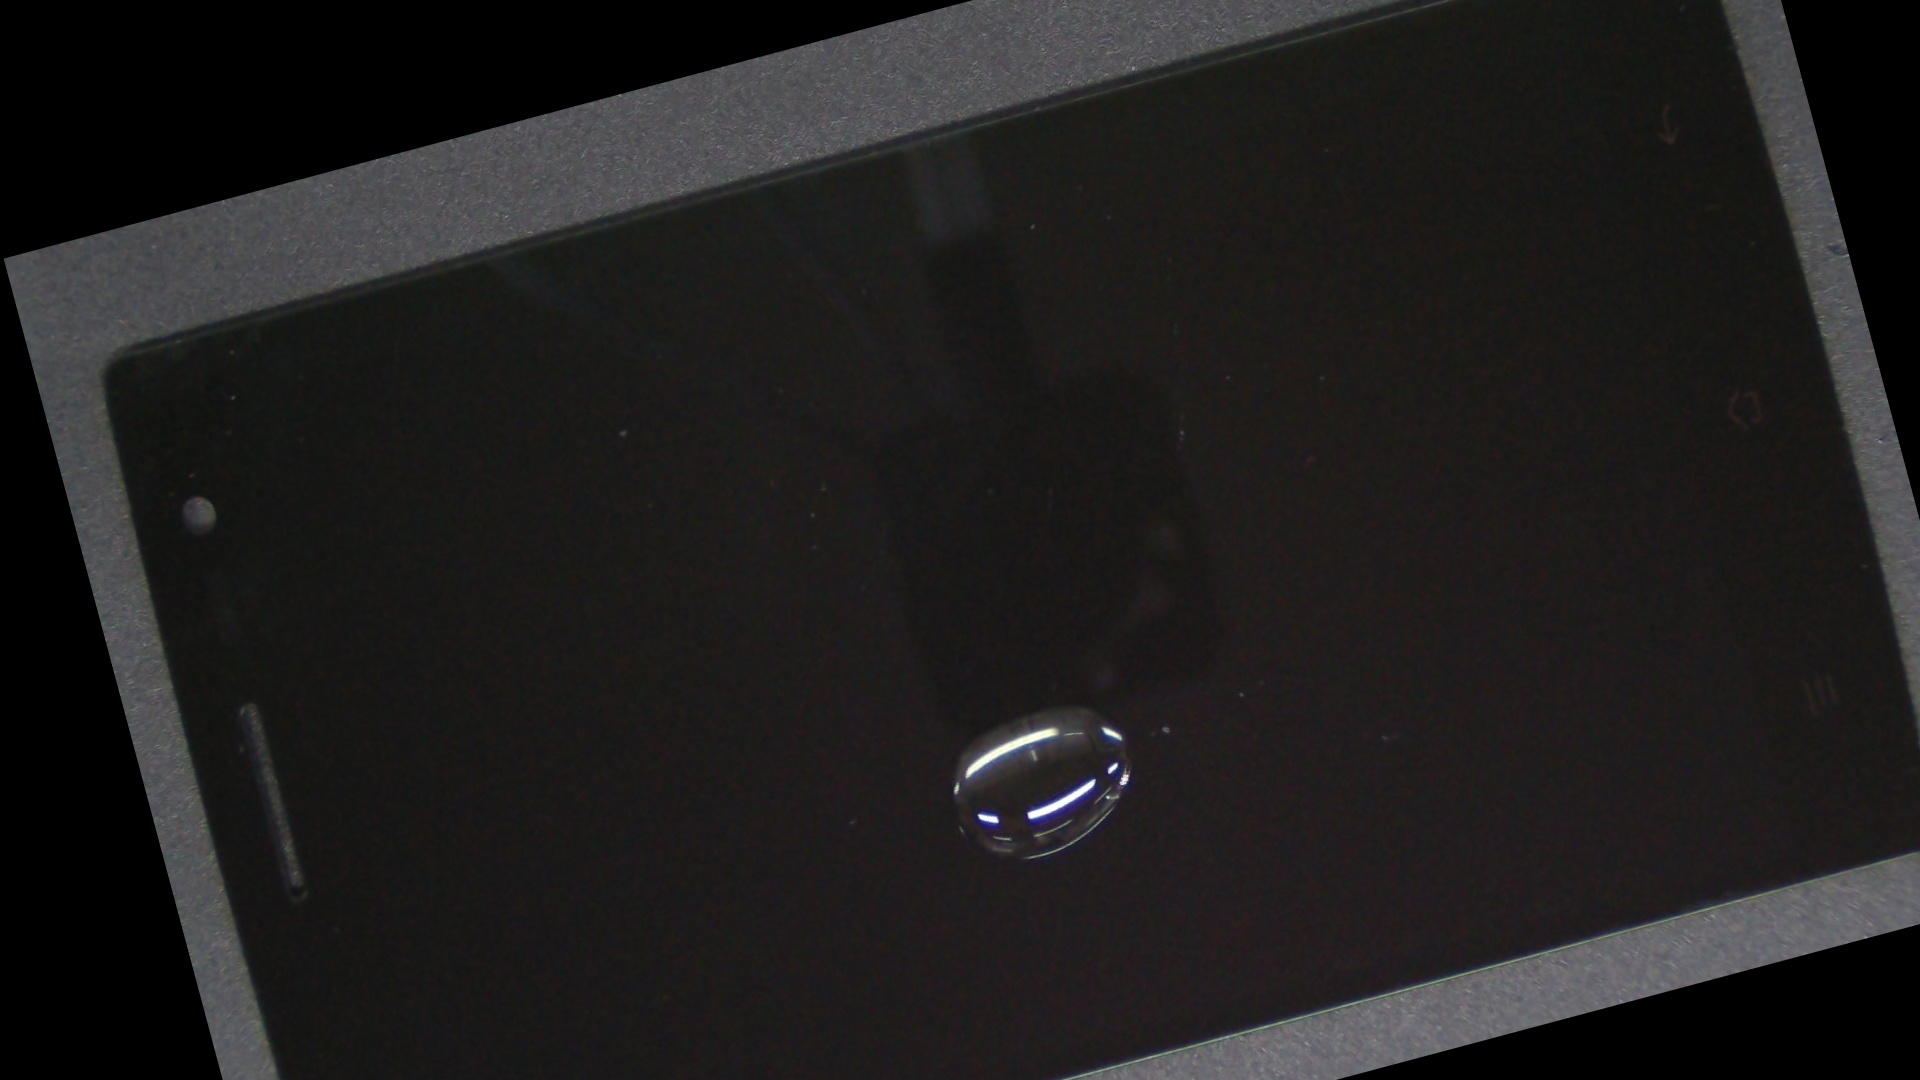oil: (517, 261, 1542, 1080)
